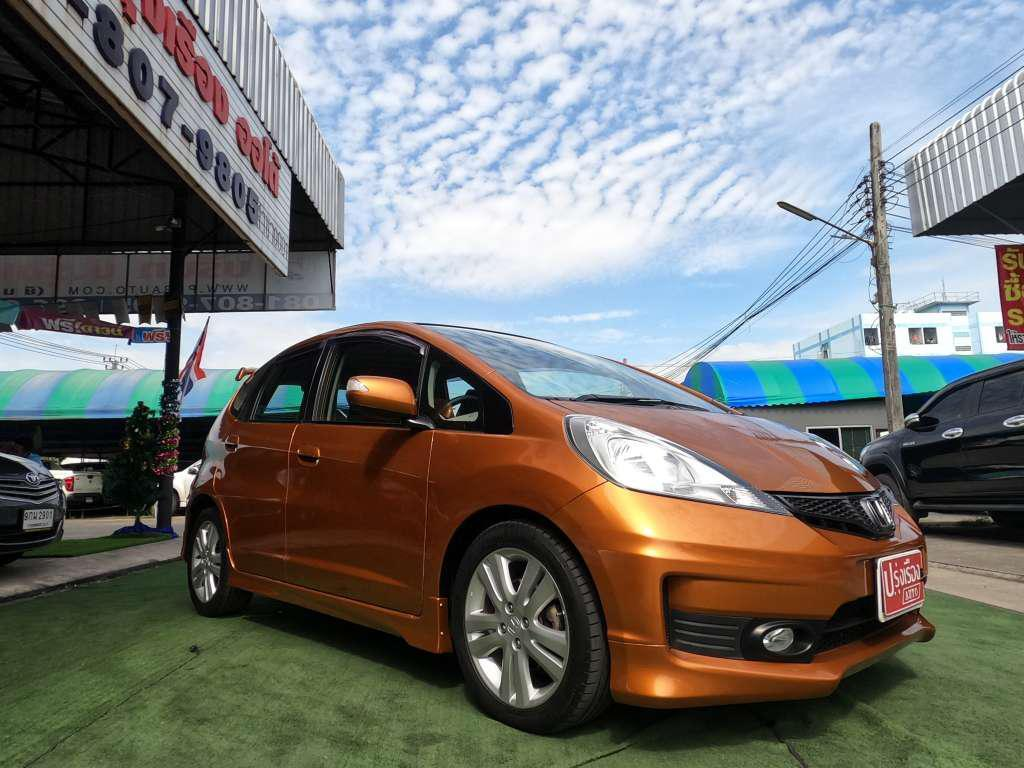Hatchback: (190, 306, 962, 740)
